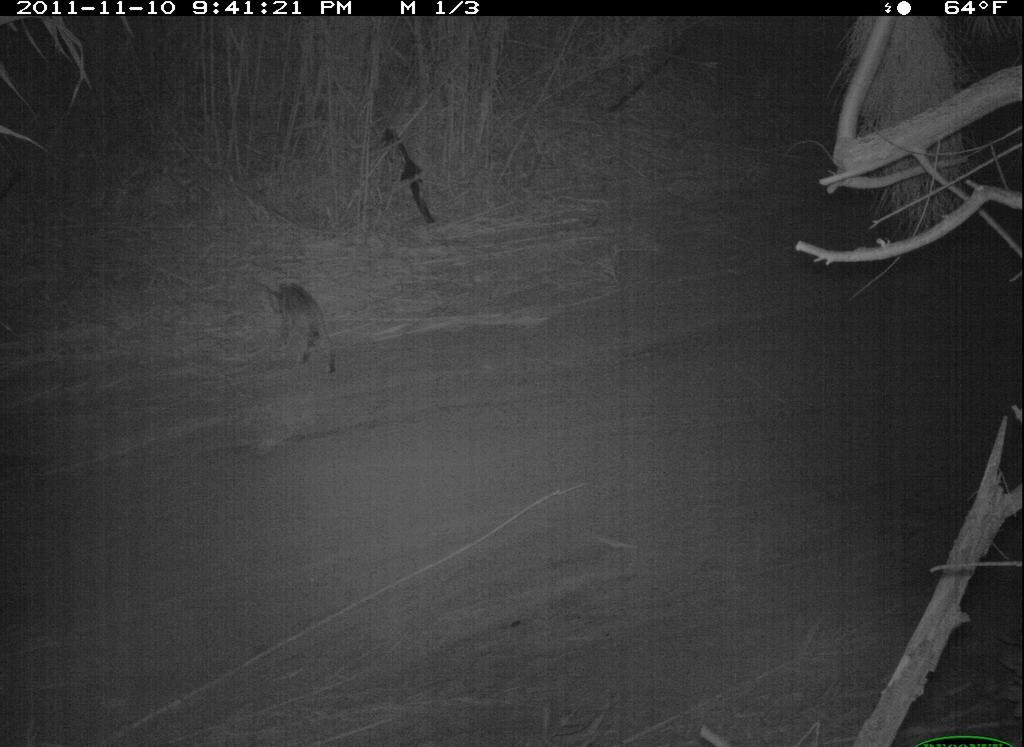bobcat: (262, 268, 347, 386)
